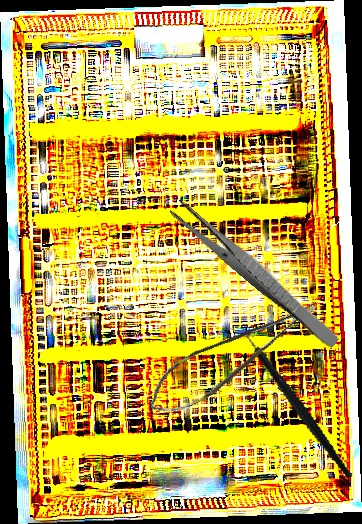Chopper: (227, 305, 354, 499)
Dressing Forceps: (167, 196, 345, 351)
Micro Scissor: (136, 296, 334, 424)
